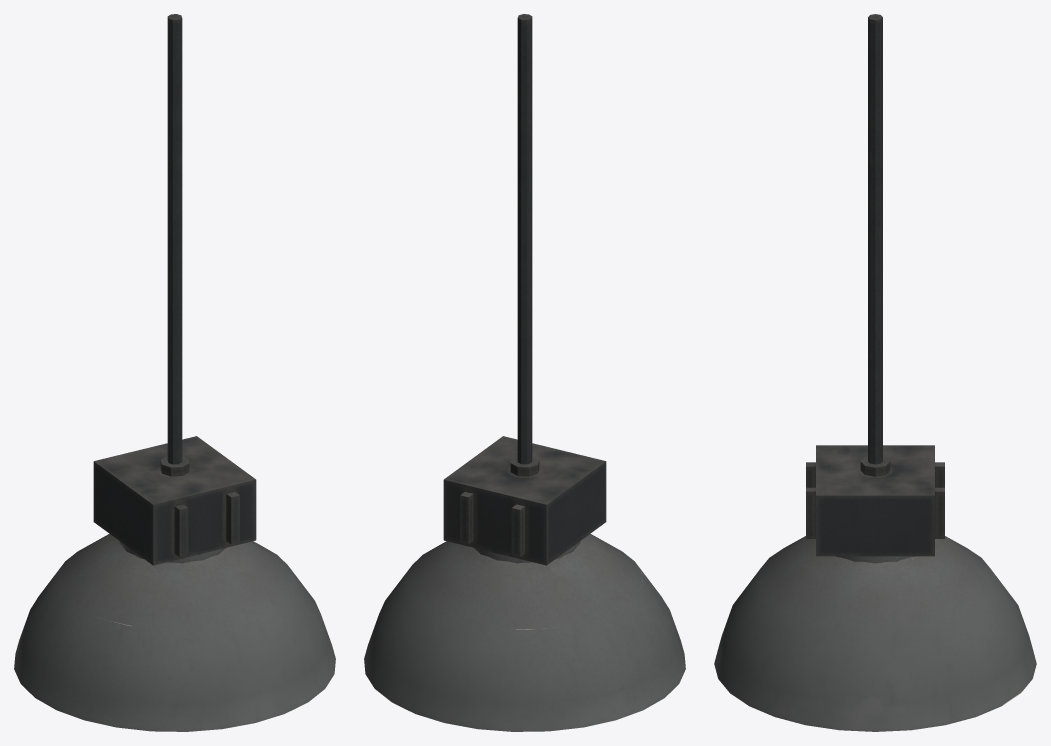
File: W2_HighBayLamp.fbx
3 views of the same model, side by side, from view 1: azimuth 30°, elevation 25°; view 2: azimuth 150°, elevation 25°; view 3: azimuth 270°, elevation 25° (orthographic).
Parts seen in each view (by area): view 1: W2_HighBayLamp__W2_HighBayLamp_Bell, W2_HighBayLamp__W2_HighBayLamp_Rod; view 2: W2_HighBayLamp__W2_HighBayLamp_Bell, W2_HighBayLamp__W2_HighBayLamp_Rod; view 3: W2_HighBayLamp__W2_HighBayLamp_Bell, W2_HighBayLamp__W2_HighBayLamp_Rod.
Part boxes in pixels (bbox=[...]): W2_HighBayLamp__W2_HighBayLamp_Bell: bbox=[14, 436, 335, 731]; W2_HighBayLamp__W2_HighBayLamp_Rod: bbox=[167, 14, 182, 464]; W2_HighBayLamp__W2_HighBayLamp_Bell: bbox=[364, 436, 685, 731]; W2_HighBayLamp__W2_HighBayLamp_Rod: bbox=[517, 14, 532, 464]; W2_HighBayLamp__W2_HighBayLamp_Bell: bbox=[714, 445, 1036, 731]; W2_HighBayLamp__W2_HighBayLamp_Rod: bbox=[868, 14, 882, 464].
Size of the model in its own units: 260 by 575 by 260.
Materials: 1 (1 with a texture image).
